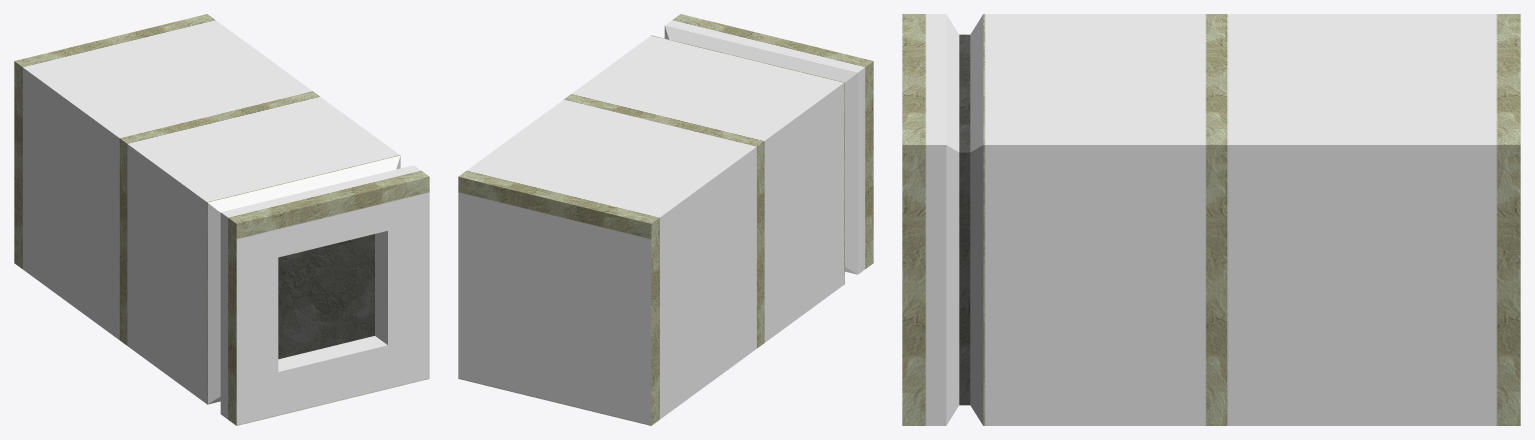
3 views of the same model, side by side, from view 1: azimuth 30°, elevation 25°; view 2: azimuth 150°, elevation 25°; view 3: azimuth 270°, elevation 25° (orthographic). The views are drawn at different scales.
Parts seen in each view (by area): view 1: Cube_Cube_None_QuartoPieces.png; view 2: Cube_Cube_None_QuartoPieces.png; view 3: Cube_Cube_None_QuartoPieces.png.
Boxes of the visible parts, bbox=[...] form: Cube_Cube_None_QuartoPieces.png: bbox=[14, 14, 429, 425]; Cube_Cube_None_QuartoPieces.png: bbox=[458, 14, 873, 425]; Cube_Cube_None_QuartoPieces.png: bbox=[902, 14, 1520, 425].
Bounding box in the file's own units: 2 × 2 × 3.99.
